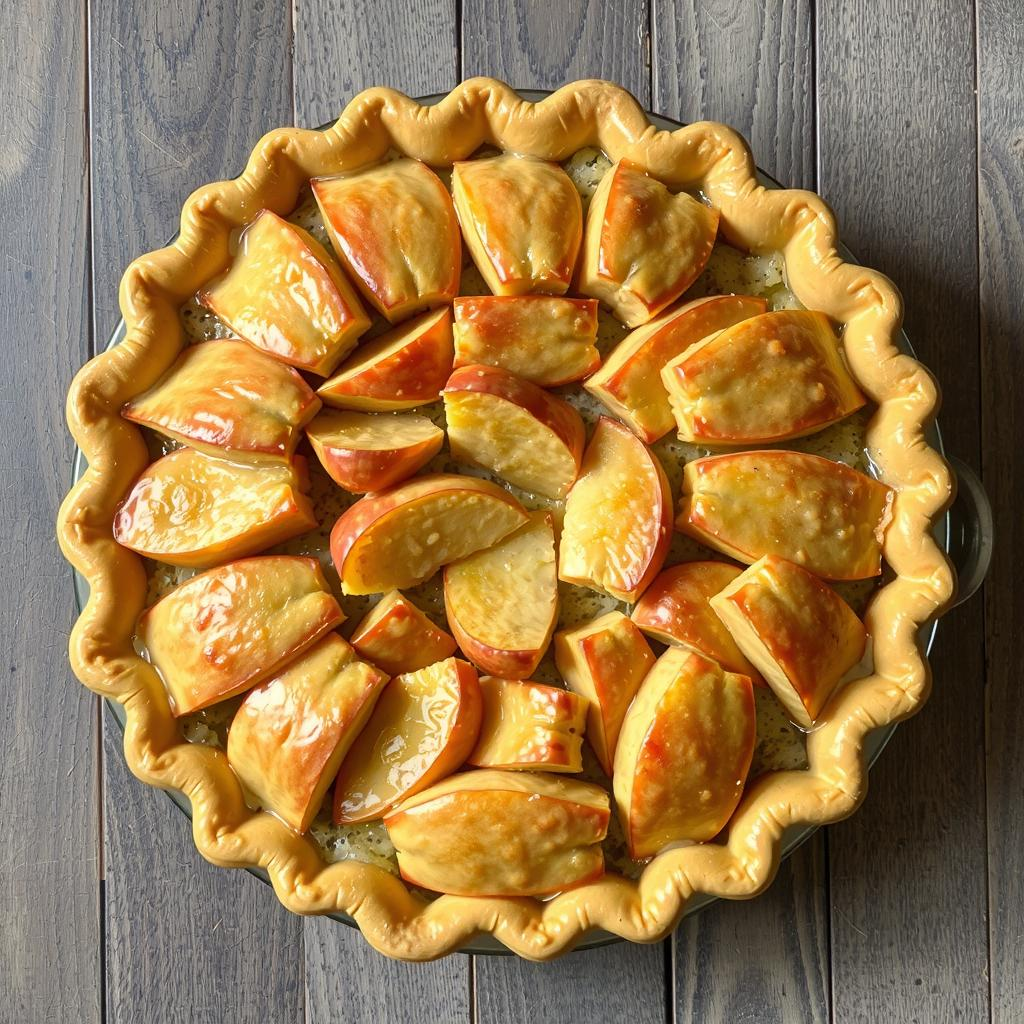pie: (57, 69, 969, 967)
